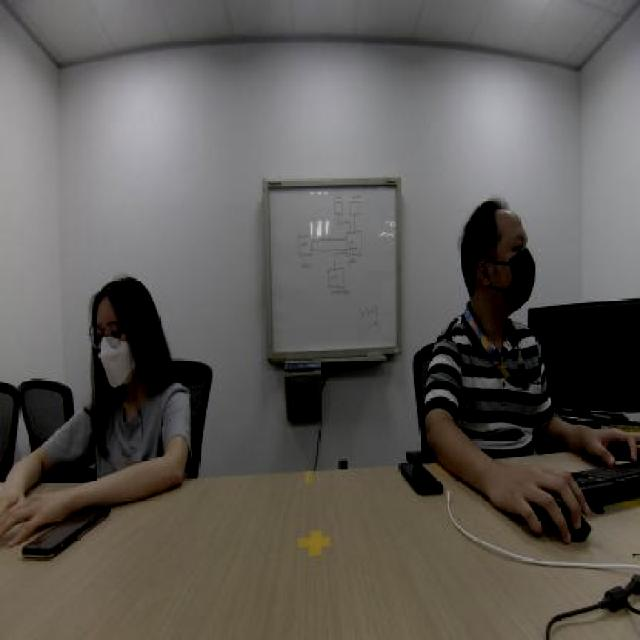Person: (14, 189, 197, 463), (409, 168, 546, 460)
